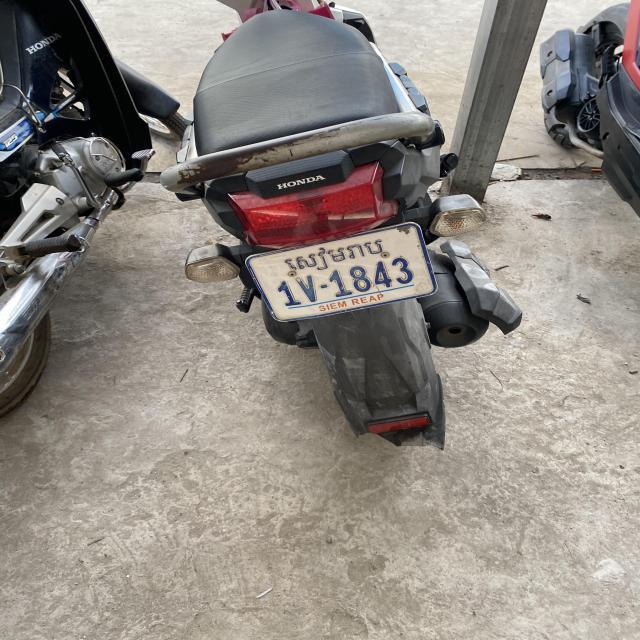Siem_Reap: (286, 235, 382, 268)
